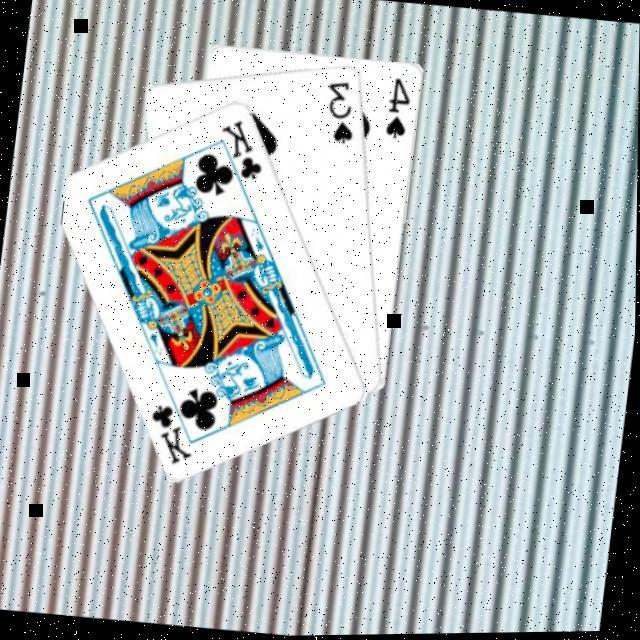3S: (318, 74, 362, 146)
4S: (381, 72, 416, 140)
KC: (142, 383, 204, 467), (210, 111, 270, 194)
